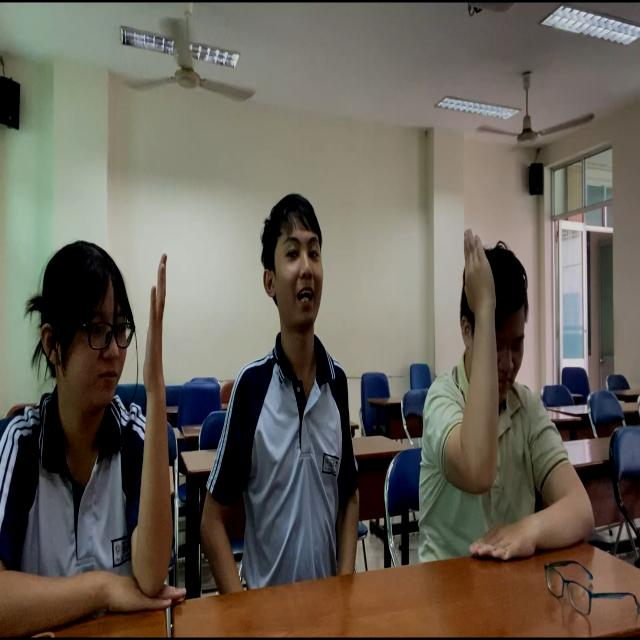raise_hand: (1, 233, 180, 640), (438, 220, 600, 570)
